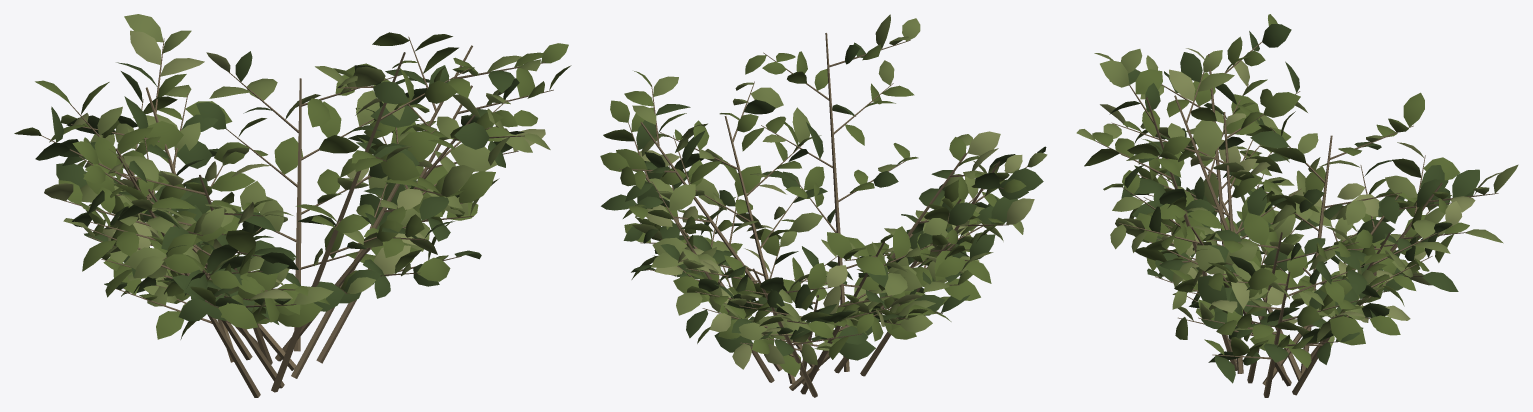
Rendered from verge_shrub_palette_mobile.glb.
3 renders of one model, left to right at view 1: azimuth 30°, elevation 25°; view 2: azimuth 150°, elevation 25°; view 3: azimuth 270°, elevation 25°, orthographic. The views are drawn at different scales.
Visible parts, largest first — view 1: MobileNeedlesMerged; view 2: MobileNeedlesMerged; view 3: MobileNeedlesMerged.
Boxes of the visible parts, x1,y1,x2,y2 form: MobileNeedlesMerged: (14, 14, 571, 397); MobileNeedlesMerged: (600, 14, 1047, 397); MobileNeedlesMerged: (1076, 14, 1518, 397).
Size of the model in its own units: 1.47 by 0.9874 by 1.24.
1 material, 1 textured.
